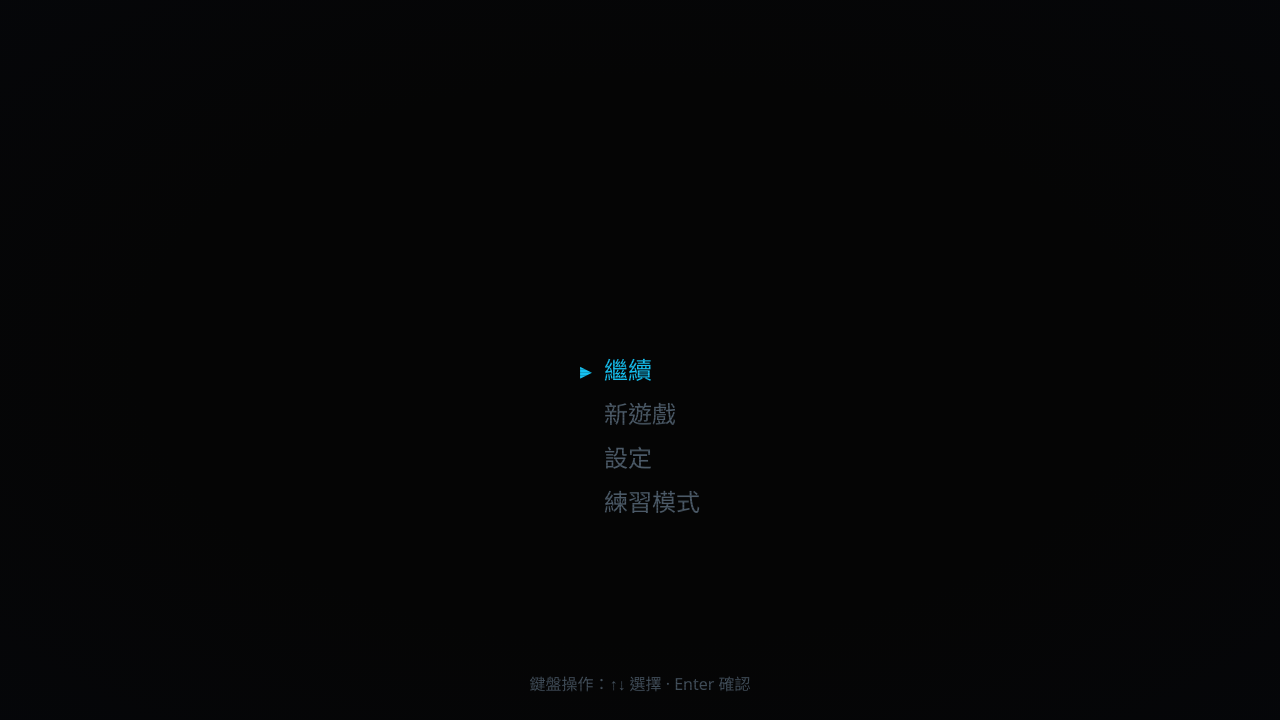
it: TitleScreen › 練習模式 › 有存檔時不必確認，也不影響「繼續」與新遊戲的覆蓋確認
Press Enter
Click the button "練習模式": coordinates (640, 502) [572, 482, 708, 522]
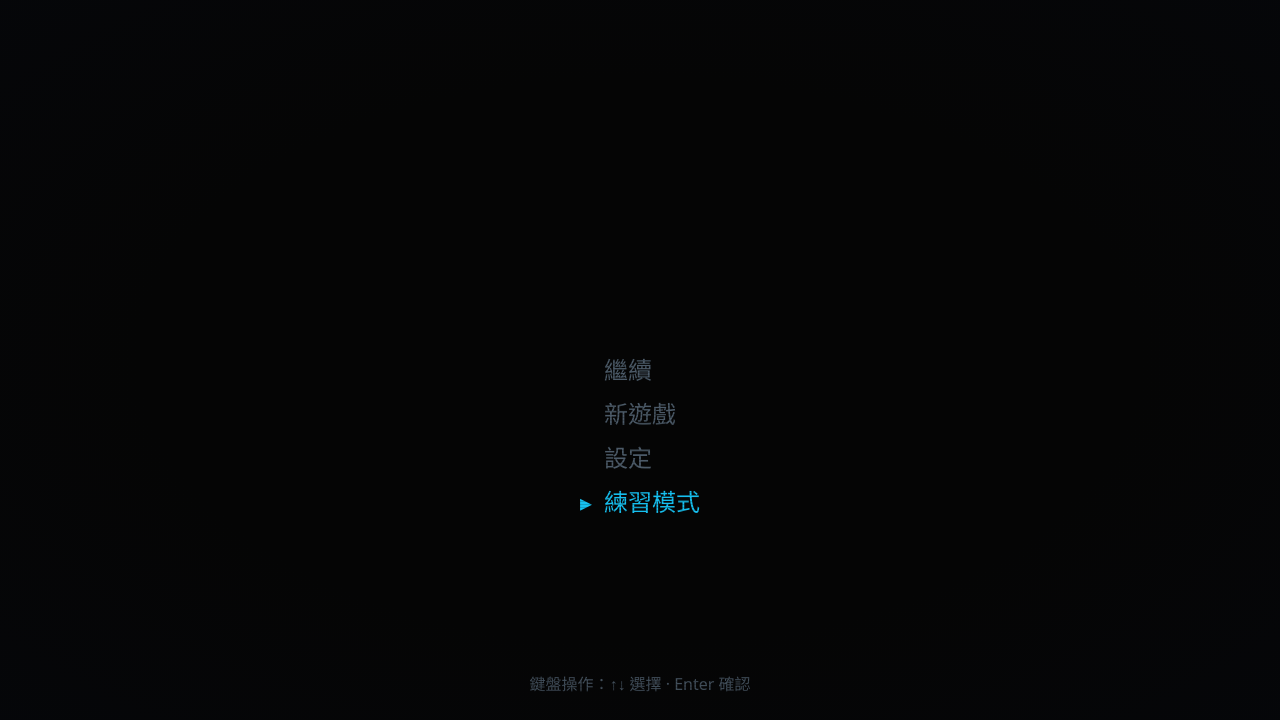
Click the button "新遊戲": coordinates (628, 414) [572, 394, 684, 434]
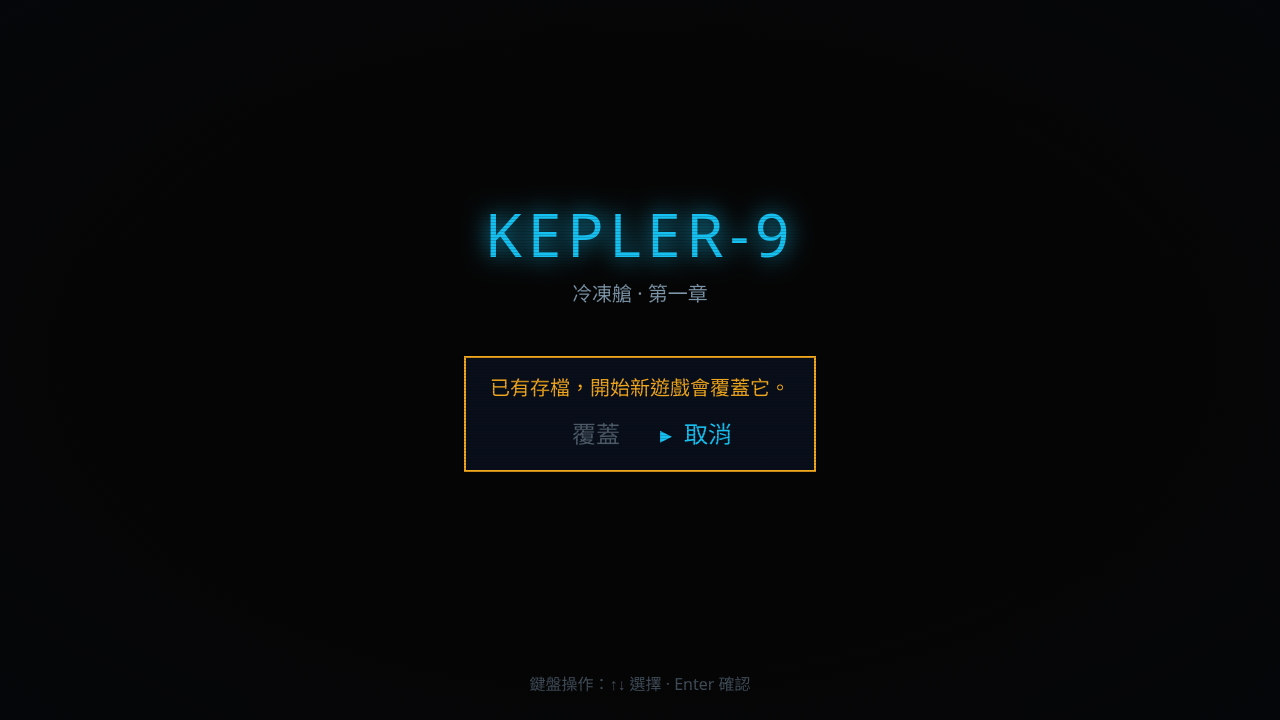
Expected: the text "已有存檔，開始新遊戲會覆蓋它。" is shown, [490, 374, 790, 402]
